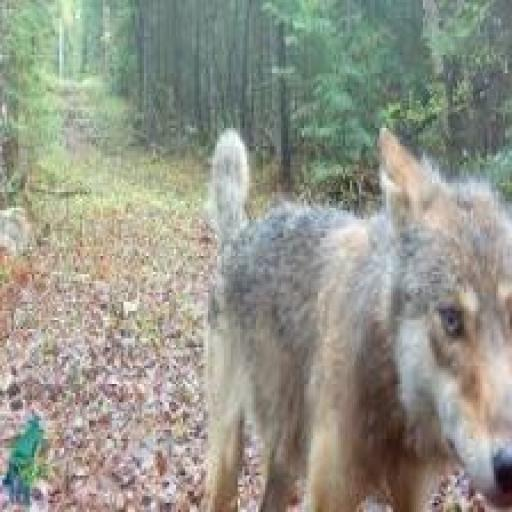wolf: (183, 110, 511, 511)
